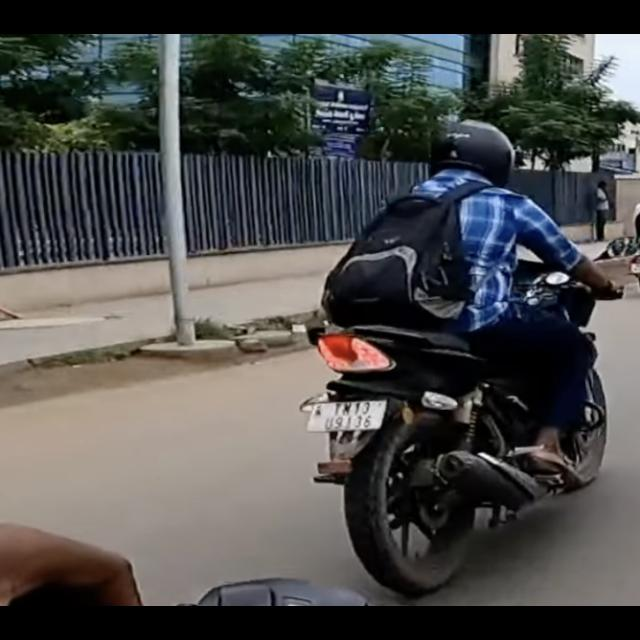with helmet: (427, 121, 513, 187)
